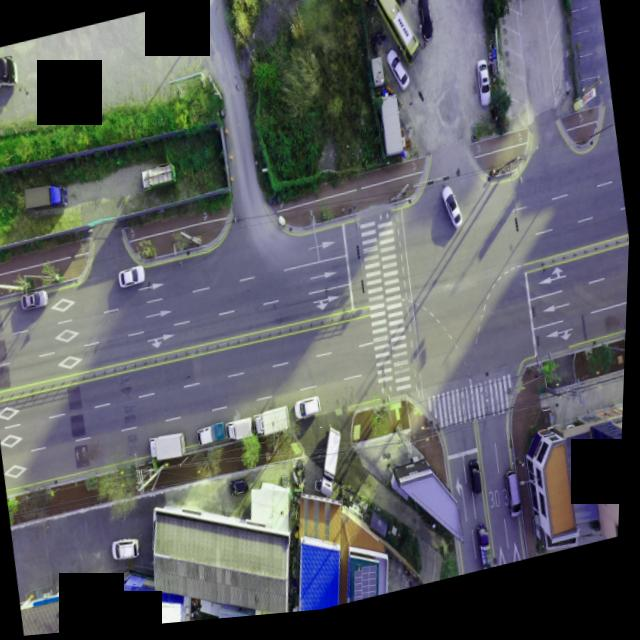car: (441, 190, 466, 239), (385, 51, 411, 97), (507, 477, 529, 526), (415, 3, 437, 50), (468, 457, 489, 504), (113, 537, 144, 565), (296, 399, 326, 425), (230, 478, 257, 504), (21, 287, 50, 311), (119, 265, 146, 289), (476, 66, 493, 104), (383, 0, 409, 15)
large_bus: (357, 0, 424, 84), (0, 42, 22, 96)
medium_truck: (313, 430, 357, 507), (22, 176, 71, 220), (252, 404, 297, 447), (152, 430, 193, 468)
small_truck: (140, 162, 178, 193), (479, 529, 500, 580), (196, 422, 230, 453), (226, 424, 259, 451)
